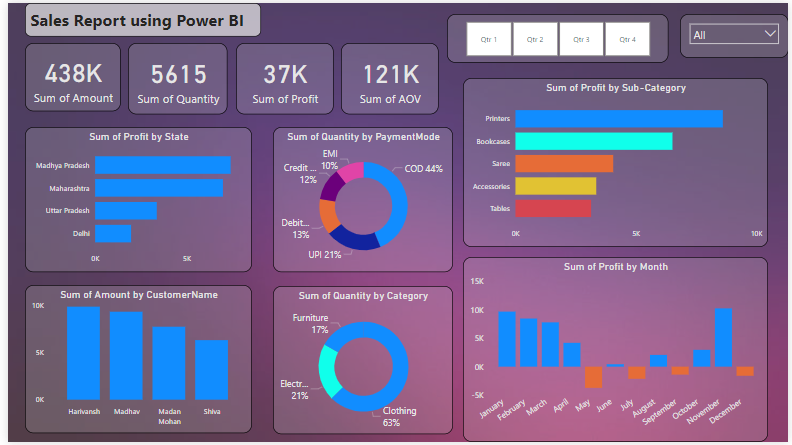

What the dashboard file says about the page in this screenshot:
{"tool":"powerbi","page":{"name":"Page 1","canvas":[1280,720],"ordinal":0},"visuals":[{"type":"textbox","box":[27.4,0,387,55],"z":0,"group":"g1"},{"type":"columnChart","fields":{"Category":["Orders.Order Date.Variation.Date Hierarchy.Month"],"Y":["Details.Profit"]},"box":[746.1,416.7,500,303.3],"z":1000,"group":"g1"},{"type":"barChart","fields":{"Category":["Details.Sub-Category"],"Y":["Details.Profit"]},"box":[746.1,123.3,500,276.7],"z":2000,"group":"g1"},{"type":"donutChart","fields":{"Category":["Details.Category"],"Y":["Details.Quantity"]},"box":[434.4,463.3,295,243.3],"z":3000,"group":"g1"},{"type":"donutChart","fields":{"Y":["Details.Quantity"],"Category":["Details.PaymentMode"]},"box":[434.4,203.3,295,238.3],"z":4000,"group":"g1"},{"type":"card","fields":{"Values":["Details.Amount"]},"box":[27.7,65,156.7,111.7],"z":5000,"group":"g1"},{"type":"card","fields":{"Values":["Details.Quantity"]},"box":[196.1,65,163.3,116.7],"z":6000,"group":"g1"},{"type":"card","fields":{"Values":["Details.Profit"]},"box":[372.7,65,160,116.7],"z":7000,"group":"g1"},{"type":"card","fields":{"Values":["Details.AOV"]},"box":[546.1,65,160,116.7],"z":8000,"group":"g1"},{"type":"barChart","fields":{"Y":["Details.Profit"],"Category":["Orders.State"]},"box":[27.7,203.3,371.7,238.3],"z":9000,"group":"g1"},{"type":"columnChart","fields":{"Category":["Orders.CustomerName"],"Y":["Details.Amount"]},"box":[27.4,463,372,243],"z":10000,"group":"g1"},{"type":"slicer","fields":{"Values":["Orders.Order Date.Variation.Date Hierarchy.Quarter"]},"box":[719.4,18.3,363.3,80],"z":11000,"group":"g1"},{"type":"slicer","fields":{"Values":["Orders.State"]},"box":[1101.1,18.3,178.3,71.7],"z":12000,"group":"g1"},{"type":"group","id":"g1","title":"Group 1","box":[27.4,0,1252,720],"z":12001}]}

Visuals, with their boxes in screenshot pixels (x1, y1, x2, y2), scaled from the page's 1280x720 canvas onto the 792x445 screenshot:
textbox: {"x1": 17, "y1": 0, "x2": 256, "y2": 34}
columnChart - Orders.Order Date.Variation.Date Hierarchy.Month x Details.Profit: {"x1": 462, "y1": 258, "x2": 771, "y2": 444}
barChart - Details.Sub-Category x Details.Profit: {"x1": 462, "y1": 76, "x2": 771, "y2": 247}
donutChart - Details.Category x Details.Quantity: {"x1": 269, "y1": 286, "x2": 451, "y2": 437}
donutChart - Details.Quantity x Details.PaymentMode: {"x1": 269, "y1": 126, "x2": 451, "y2": 273}
card - Details.Amount: {"x1": 17, "y1": 40, "x2": 114, "y2": 109}
card - Details.Quantity: {"x1": 121, "y1": 40, "x2": 222, "y2": 112}
card - Details.Profit: {"x1": 231, "y1": 40, "x2": 330, "y2": 112}
card - Details.AOV: {"x1": 338, "y1": 40, "x2": 437, "y2": 112}
barChart - Details.Profit x Orders.State: {"x1": 17, "y1": 126, "x2": 247, "y2": 273}
columnChart - Orders.CustomerName x Details.Amount: {"x1": 17, "y1": 286, "x2": 247, "y2": 436}
slicer - Orders.Order Date.Variation.Date Hierarchy.Quarter: {"x1": 445, "y1": 11, "x2": 670, "y2": 61}
slicer - Orders.State: {"x1": 681, "y1": 11, "x2": 791, "y2": 56}
"Group 1" group: {"x1": 17, "y1": 0, "x2": 791, "y2": 444}
